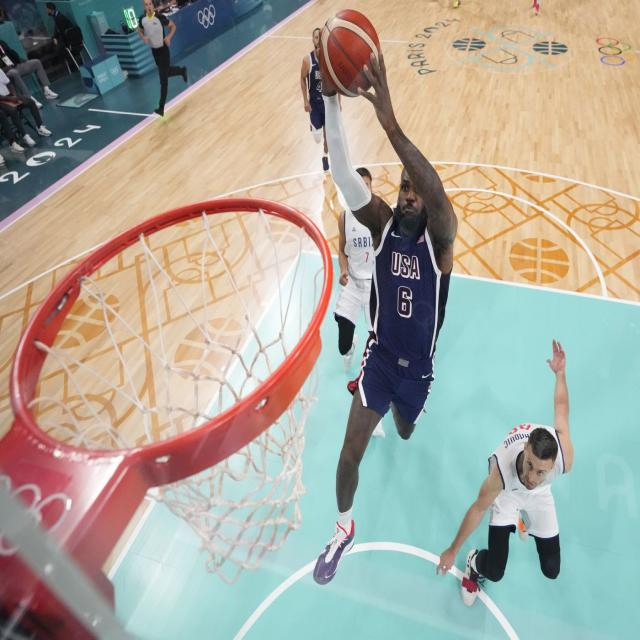basketball: (319, 8, 381, 97)
hoop: (0, 195, 333, 638)
